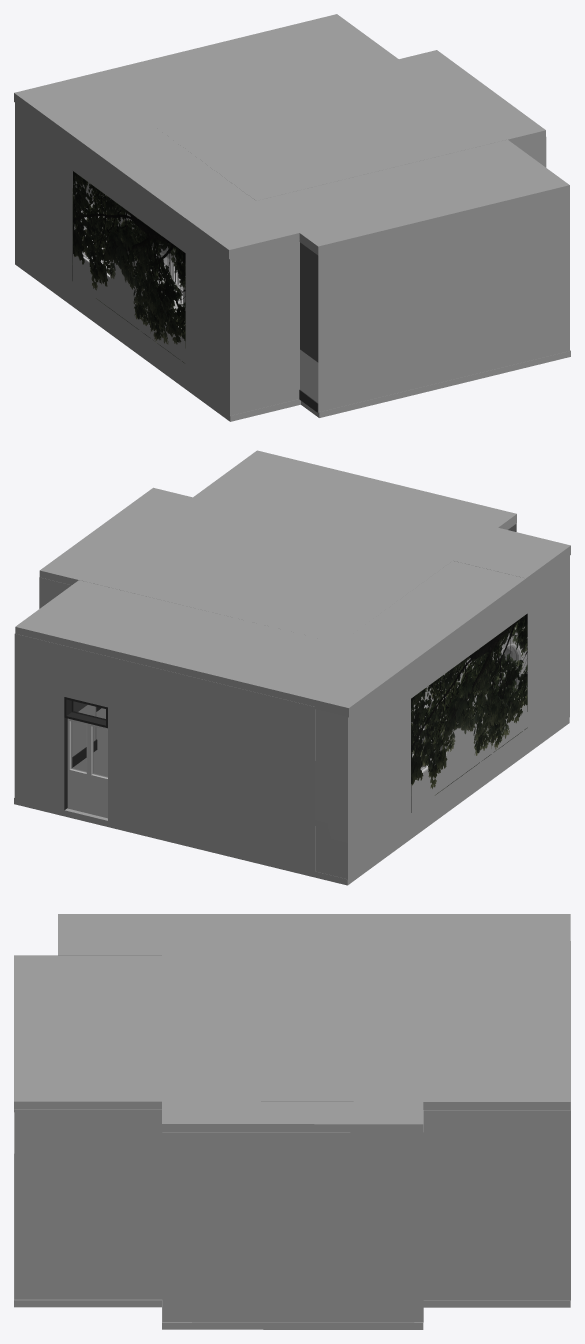
Rendered from room_whole_final.fbx.
3 renders of one model, top to bottom at view 1: azimuth 30°, elevation 25°; view 2: azimuth 150°, elevation 25°; view 3: azimuth 270°, elevation 25°, orthographic. The views are drawn at different scales.
Parts seen in each view (by area): view 1: roof, wall_short, wall_windows, pCube1, floor; view 2: roof, wall_door1, wall_windows, pCube1, floor, door_R2, door_L1, wall_long; view 3: roof, wall_long, floor.
Part boxes in pixels (bbox=[...]): roof: bbox=[14, 14, 569, 259]; wall_short: bbox=[299, 194, 569, 412]; wall_windows: bbox=[15, 103, 299, 415]; pCube1: bbox=[72, 171, 185, 363]; floor: bbox=[15, 259, 570, 421]; roof: bbox=[15, 450, 570, 717]; wall_door1: bbox=[14, 633, 315, 871]; wall_windows: bbox=[315, 556, 569, 879]; pCube1: bbox=[411, 613, 527, 812]; floor: bbox=[14, 708, 569, 885]; door_R2: bbox=[67, 718, 88, 813]; door_L1: bbox=[89, 724, 107, 818]; wall_long: bbox=[39, 577, 101, 767]; roof: bbox=[14, 914, 570, 1134]; wall_long: bbox=[14, 1109, 570, 1322]; floor: bbox=[14, 1154, 570, 1329].
Size of the model in its own units: 953 by 431 by 1061.
